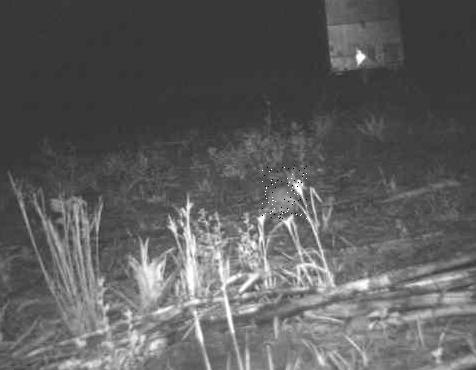Rabbit: (261, 166, 306, 220)
